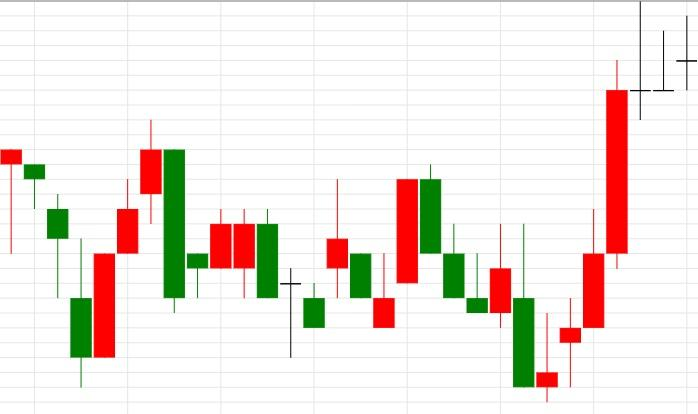three_white_soldiers_rise: (421, 59, 628, 402), (0, 119, 162, 387)
